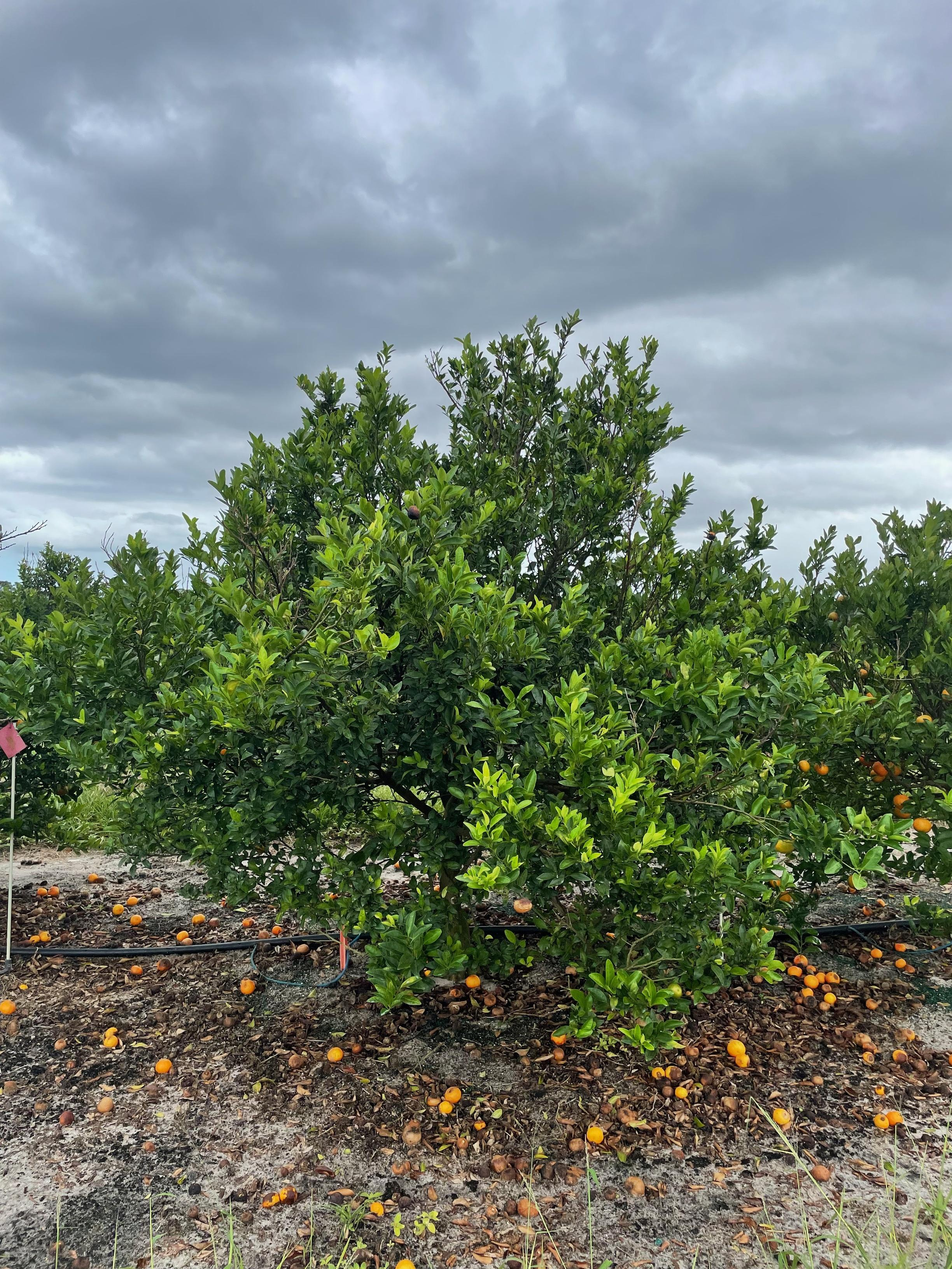fruit_on_ground: (511, 896, 534, 916), (891, 802, 913, 822), (853, 659, 873, 681), (911, 815, 934, 834), (774, 836, 796, 855), (891, 792, 911, 811), (868, 766, 888, 785), (665, 982, 685, 1000), (914, 712, 935, 729), (845, 872, 863, 891), (885, 760, 904, 778), (872, 758, 890, 777), (861, 688, 880, 705), (405, 504, 423, 521), (857, 751, 874, 767), (814, 760, 831, 776), (796, 757, 812, 774), (833, 593, 850, 608), (938, 685, 952, 703), (767, 874, 783, 889), (777, 797, 794, 811), (603, 928, 618, 943), (214, 744, 229, 759), (825, 609, 841, 623), (758, 924, 773, 937), (779, 890, 793, 903), (705, 530, 717, 541)
fruit_on_tree: (275, 1183, 301, 1206), (622, 1174, 646, 1198), (516, 1196, 540, 1219), (401, 1123, 423, 1145), (772, 1105, 794, 1127), (810, 1163, 833, 1183), (258, 1190, 281, 1209), (616, 1105, 638, 1124), (584, 1125, 604, 1145), (56, 1108, 77, 1127), (539, 1161, 559, 1180), (721, 1094, 741, 1113), (550, 1028, 570, 1047), (726, 1037, 746, 1056), (325, 1045, 346, 1063), (95, 1096, 114, 1115), (238, 976, 257, 995), (102, 1028, 120, 1048), (443, 1084, 463, 1102), (854, 1033, 875, 1050), (479, 988, 498, 1006), (3, 1018, 21, 1037), (666, 1062, 685, 1080), (490, 1154, 509, 1172), (0, 997, 18, 1016), (511, 1156, 531, 1173), (390, 1159, 410, 1176), (287, 1052, 307, 1069), (567, 1137, 587, 1154), (392, 1255, 417, 1268), (368, 1199, 386, 1217), (500, 1168, 519, 1185), (154, 1057, 173, 1074), (887, 1108, 904, 1126), (733, 1052, 752, 1068), (464, 973, 483, 989), (898, 1027, 918, 1042), (551, 1045, 568, 1062), (872, 1112, 889, 1129), (891, 1048, 908, 1065), (2, 1077, 18, 1095), (649, 1064, 666, 1080), (684, 1043, 701, 1059), (860, 1037, 878, 1052), (437, 1101, 455, 1116), (860, 1050, 877, 1065), (424, 1093, 441, 1108), (802, 974, 819, 989), (456, 1134, 471, 1150), (659, 1084, 674, 1099), (674, 1084, 689, 1099), (154, 958, 170, 972), (825, 970, 841, 984), (787, 964, 803, 978), (175, 929, 191, 943), (128, 912, 144, 926), (446, 986, 463, 999), (792, 953, 809, 966), (810, 1071, 825, 1085), (472, 1118, 487, 1132), (221, 1015, 236, 1029), (53, 1037, 68, 1051), (822, 991, 837, 1005), (104, 1025, 120, 1038), (294, 942, 310, 955), (874, 1082, 888, 1096), (38, 928, 52, 942), (803, 961, 818, 974), (129, 963, 144, 976), (864, 996, 879, 1009), (191, 911, 206, 924), (111, 902, 126, 915), (801, 986, 817, 998), (255, 929, 271, 941), (751, 971, 765, 984), (858, 952, 872, 965), (814, 971, 828, 984), (241, 916, 256, 928), (206, 916, 221, 928), (219, 894, 232, 907), (350, 1041, 363, 1054), (26, 932, 40, 944), (564, 963, 578, 975), (126, 894, 140, 906), (34, 884, 48, 896), (870, 947, 884, 959), (180, 936, 195, 947), (421, 966, 434, 978), (65, 1057, 78, 1069), (893, 956, 906, 968), (820, 982, 833, 994), (892, 940, 906, 951), (818, 999, 830, 1011), (860, 904, 872, 916), (270, 923, 282, 935), (793, 994, 806, 1005), (904, 962, 917, 973), (150, 886, 162, 897), (48, 884, 60, 895), (392, 858, 403, 870), (87, 872, 100, 882), (18, 981, 29, 992), (875, 897, 887, 907), (811, 886, 822, 896), (327, 891, 339, 900)
